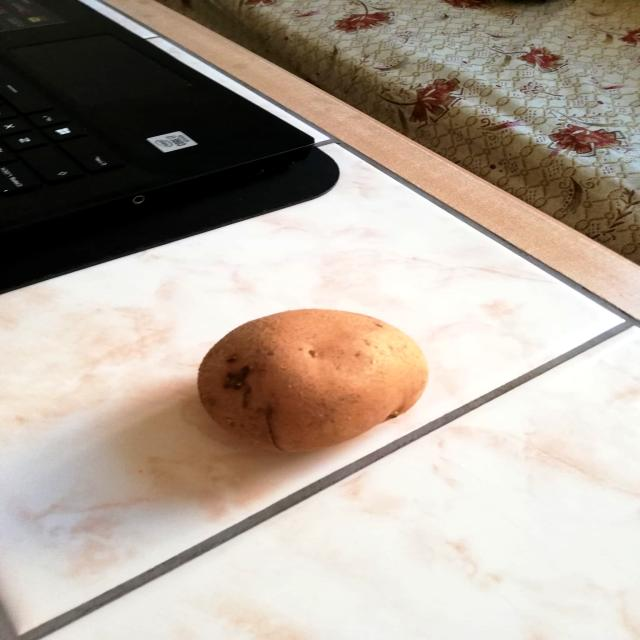potato: (189, 301, 440, 457)
